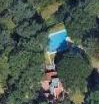pool: (49, 36, 68, 49)
